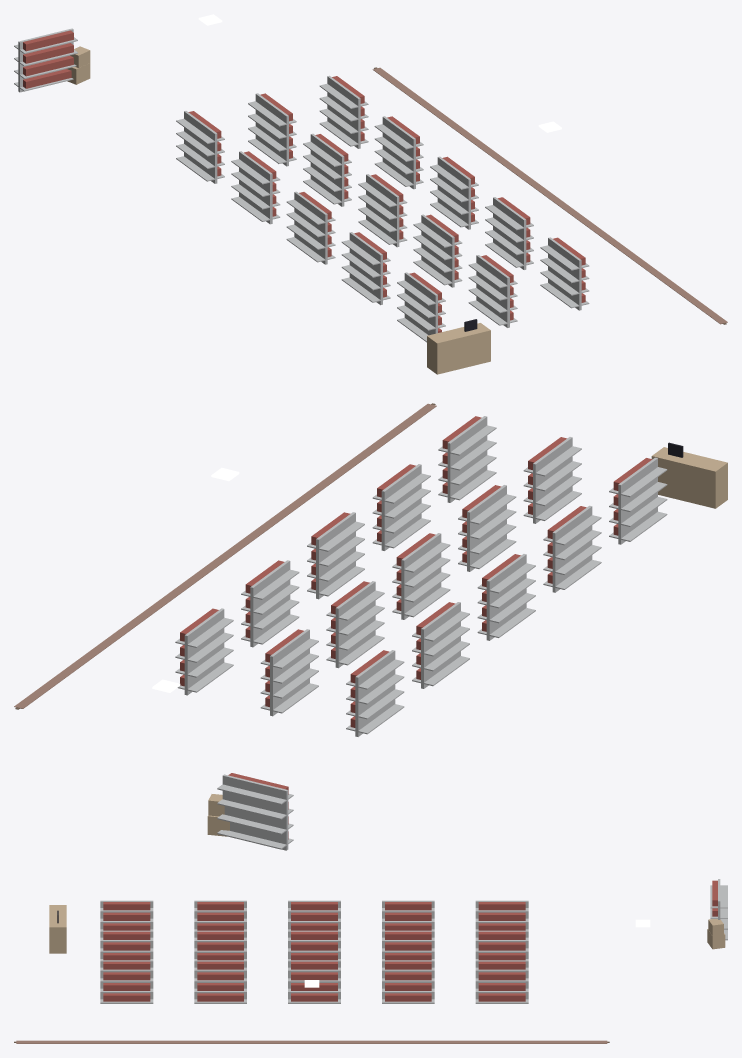
The model's file is fine-s0.glb.
The picture shows the model from 3 angles, top to bottom: view 1: azimuth 30°, elevation 25°; view 2: azimuth 150°, elevation 25°; view 3: azimuth 270°, elevation 25°; orthographic projection. The views are drawn at different scales.
Visible parts, largest first — view 1: shelving.000, soft-s0, shop-counter.000, shelf.006, shelf.008, shelf.007, shelf.014, shelf.001, shelf.011, shelf.009, shelf.013, shelf.000 (+7 smaller); view 2: shelving.000, soft-s0, shop-counter.000, shelf.003, shelf.014, shelf.000, shelf.007, shelf.011, shelf.006, shelf.004, shelf.005, shelf.013 (+6 smaller); view 3: shelf.010, shelf.014, soft-s0, shelf.011, shelf.013, shelf.012, shelf.000, shelf.004, shelf.005, shelf.009, shelf.001, shelf.002 (+7 smaller).
Part boxes in pixels (box(x1,y1,x2,y2)): shelving.000: box(14, 28, 77, 92); soft-s0: box(372, 67, 727, 324); shop-counter.000: box(427, 319, 490, 374); shelf.006: box(303, 133, 351, 206); shelf.008: box(413, 214, 462, 287); shelf.007: box(358, 174, 407, 247); shelf.014: box(540, 237, 589, 310); shelf.001: box(231, 151, 280, 224); shelf.011: box(374, 116, 423, 189); shelf.009: box(468, 255, 517, 327); shelf.013: box(485, 197, 533, 269); shelf.000: box(176, 111, 224, 183); shelving.000: box(217, 773, 293, 850); soft-s0: box(14, 403, 436, 709); shop-counter.000: box(651, 442, 727, 508); shelf.003: box(543, 505, 601, 592); shelf.014: box(438, 416, 496, 502); shelf.000: box(346, 650, 404, 736); shelf.007: box(392, 533, 450, 619); shelf.011: box(241, 560, 299, 647); shelf.006: box(326, 581, 384, 668); shelf.004: box(609, 457, 667, 544); shelf.005: box(260, 629, 318, 716); shelf.013: box(372, 464, 430, 550); shelf.010: box(475, 960, 528, 1003); shelf.014: box(100, 960, 153, 1003); soft-s0: box(14, 1040, 609, 1043); shelf.011: box(382, 960, 434, 1003); shelf.013: box(194, 960, 246, 1003); shelf.012: box(288, 960, 340, 1003); shelf.000: box(475, 900, 528, 930); shelf.004: box(100, 900, 153, 930); shelf.005: box(475, 930, 528, 960); shelf.009: box(100, 930, 153, 960); shelf.001: box(382, 900, 434, 930); shelf.002: box(288, 900, 340, 930).
Size of the model in its own units: 10.01 by 2.24 by 24.35.
